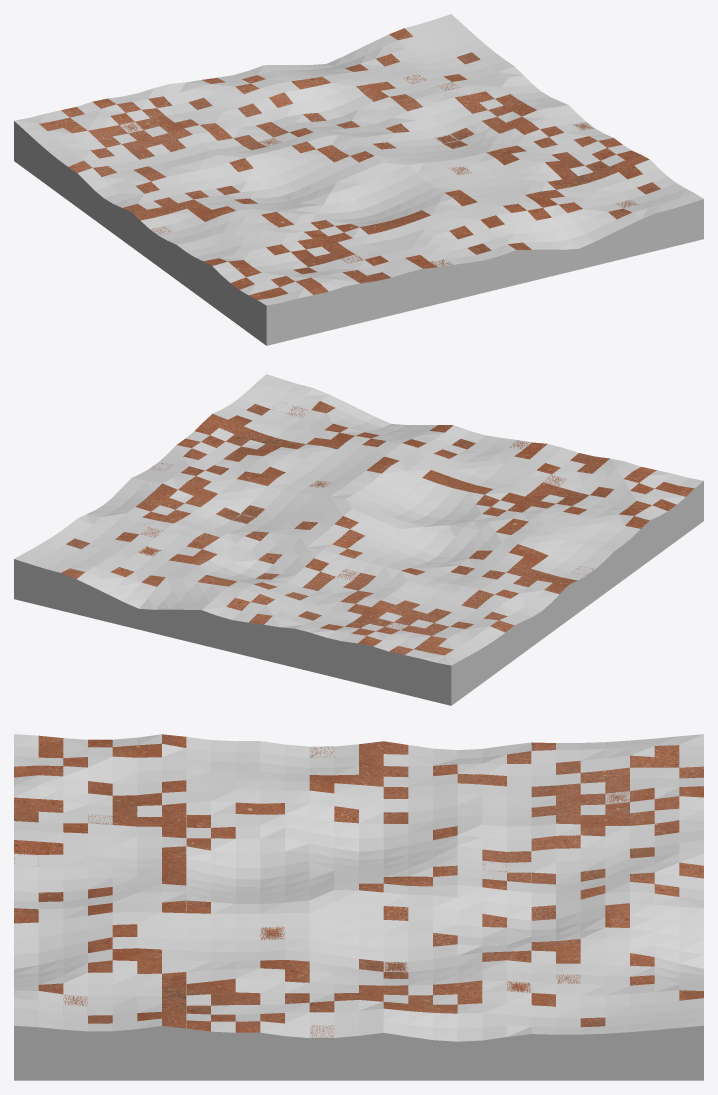
The model's file is Ground_flat_02_M02_LOD0.fbx.
3 renders of one model, top to bottom at view 1: azimuth 30°, elevation 25°; view 2: azimuth 150°, elevation 25°; view 3: azimuth 270°, elevation 25°, orthographic. The views are drawn at different scales.
Parts seen in each view (by area): view 1: Ground_flat_02_M02_Collidor, Ground_flat_02_M02_LOD0; view 2: Ground_flat_02_M02_Collidor, Ground_flat_02_M02_LOD0; view 3: Ground_flat_02_M02_Collidor, Ground_flat_02_M02_LOD0.
Part boxes in pixels (x1,y1,x2,y2): Ground_flat_02_M02_Collidor: (14,14,703,345); Ground_flat_02_M02_LOD0: (39,28,660,299); Ground_flat_02_M02_Collidor: (14,374,703,705); Ground_flat_02_M02_LOD0: (61,401,694,655); Ground_flat_02_M02_Collidor: (14,734,703,1080); Ground_flat_02_M02_LOD0: (14,734,703,1037).
Bounding box in the file's own units: 2000 × 179 × 2000.
